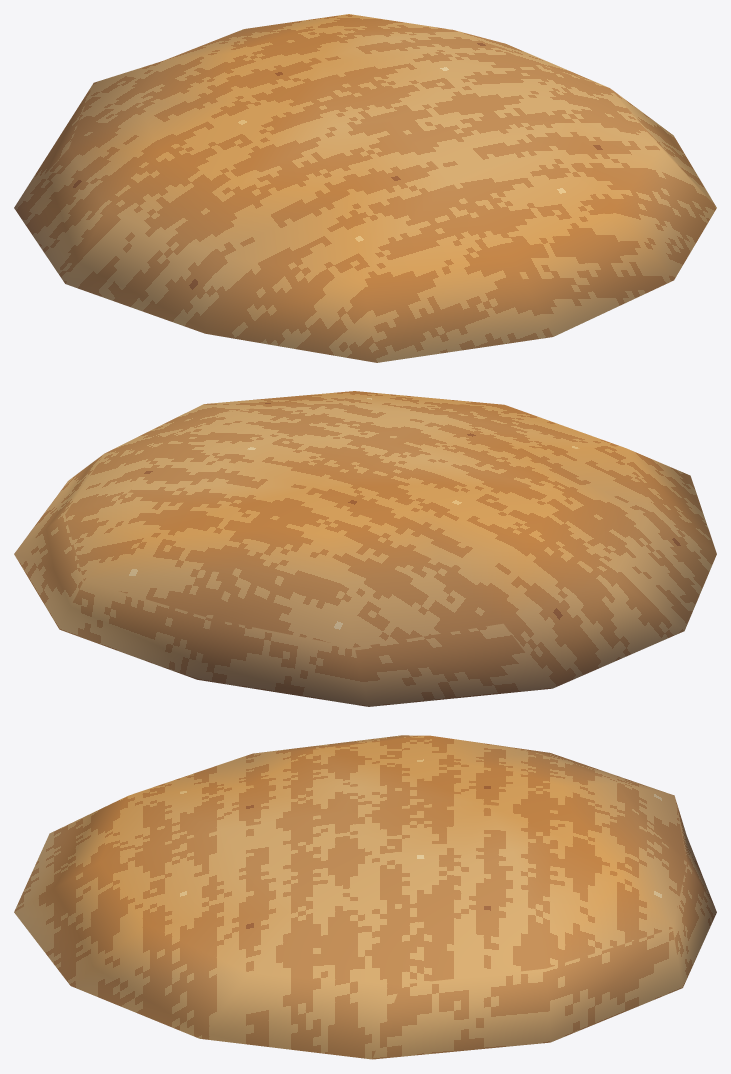
Rendered from wild.dune.glb.
The picture shows the model from 3 angles, top to bottom: view 1: azimuth 30°, elevation 25°; view 2: azimuth 150°, elevation 25°; view 3: azimuth 270°, elevation 25°; orthographic projection.
Parts seen in each view (by area): view 1: kit_dune; view 2: kit_dune; view 3: kit_dune.
Part boxes in pixels (x1=…): kit_dune: x1=14, y1=14, x2=716, y2=362; kit_dune: x1=14, y1=391, x2=716, y2=706; kit_dune: x1=14, y1=735, x2=716, y2=1059.
Size of the model in its own units: 9.03 by 1.5 by 8.89.
1 material, 1 textured.
